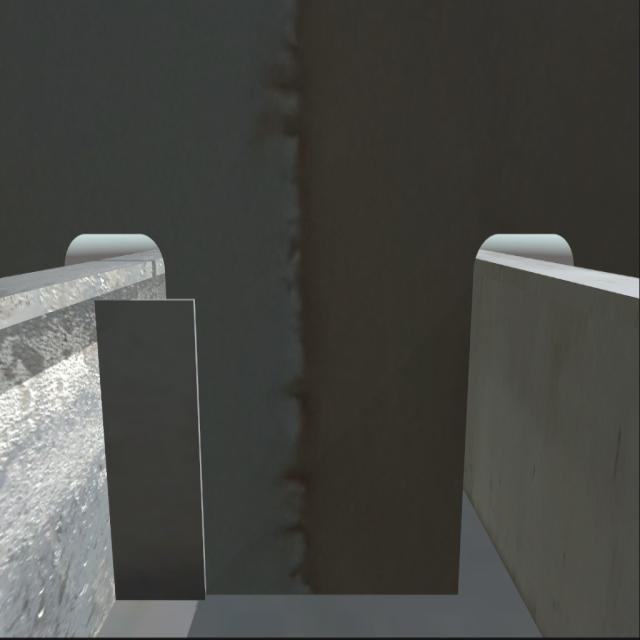fillet_yong_jeop_jang: (110, 586, 464, 610)
longi_yong_jeop_jang: (91, 293, 118, 607)
plate_CP01: (109, 295, 202, 598)
